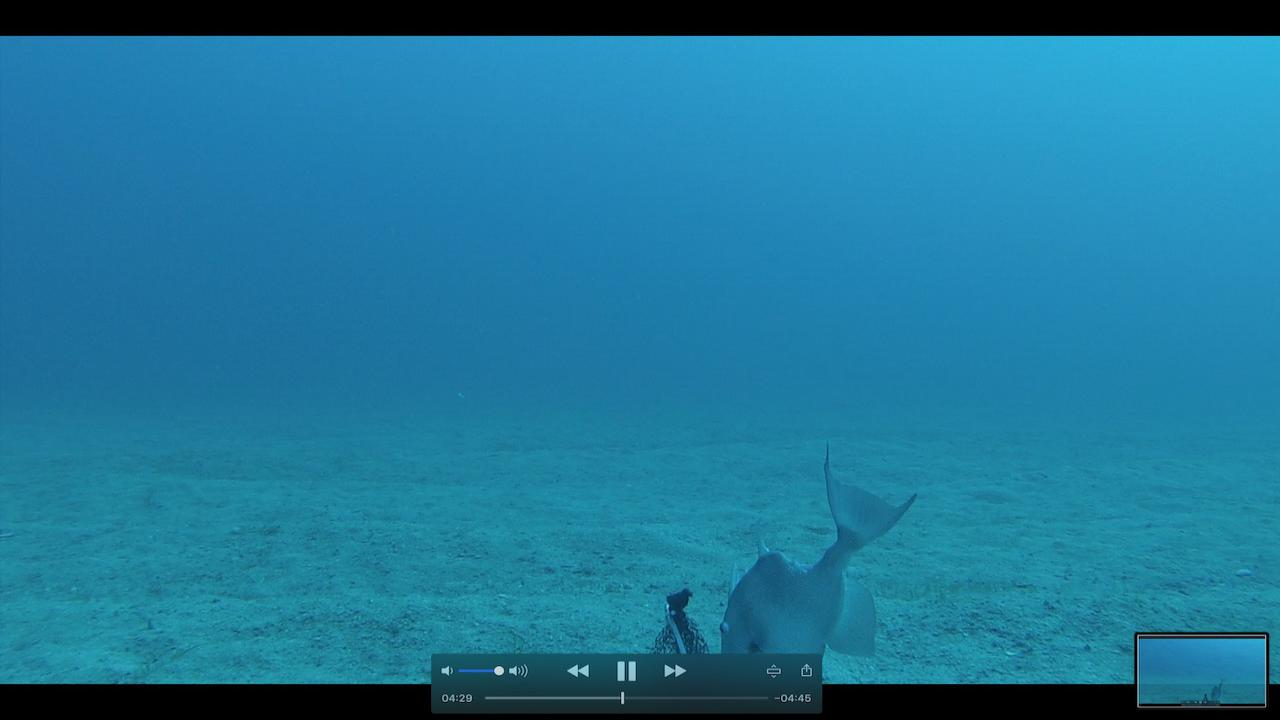balistes: (716, 434, 921, 653)
